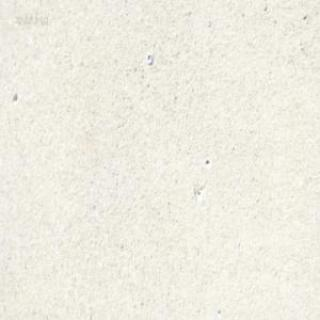Washertrack_idkeyframe: (146, 52, 153, 64)
